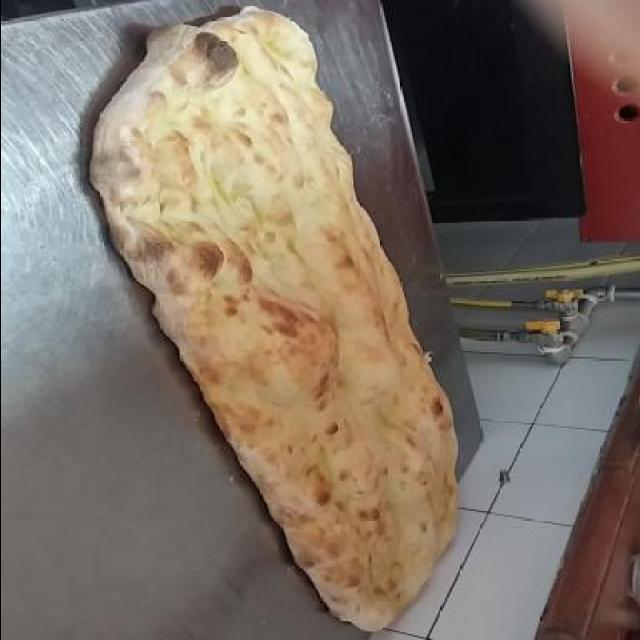Bread: (90, 5, 453, 637)
